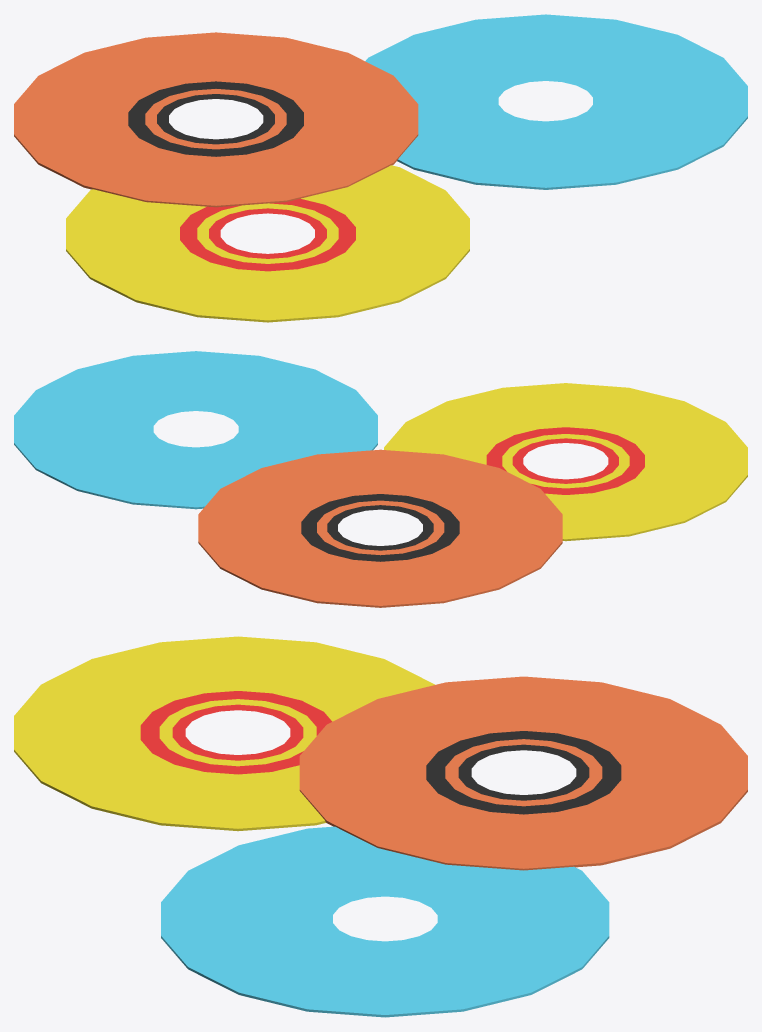
3 views of the same model, one above another, from view 1: azimuth 30°, elevation 25°; view 2: azimuth 150°, elevation 25°; view 3: azimuth 270°, elevation 25° (orthographic). The views are drawn at different scales.
Visible parts, largest first — view 1: Cylinder004, Cylinder006, Cylinder005; view 2: Cylinder004, Cylinder006, Cylinder005; view 3: Cylinder004, Cylinder006, Cylinder005.
Boxes of the visible parts, x1,y1,x2,y2 form: Cylinder004: (14, 32, 418, 207); Cylinder006: (365, 14, 747, 189); Cylinder005: (66, 165, 469, 322); Cylinder004: (198, 449, 562, 607); Cylinder006: (14, 351, 377, 509); Cylinder005: (384, 383, 747, 541); Cylinder004: (299, 676, 747, 870); Cylinder006: (161, 826, 609, 1017); Cylinder005: (14, 636, 434, 831).
Size of the model in its own units: 1606 by 7.89 by 1316.
